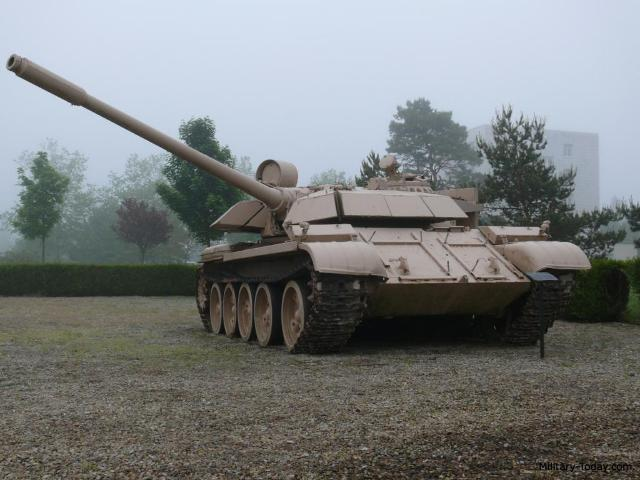tank: (202, 164, 586, 342)
